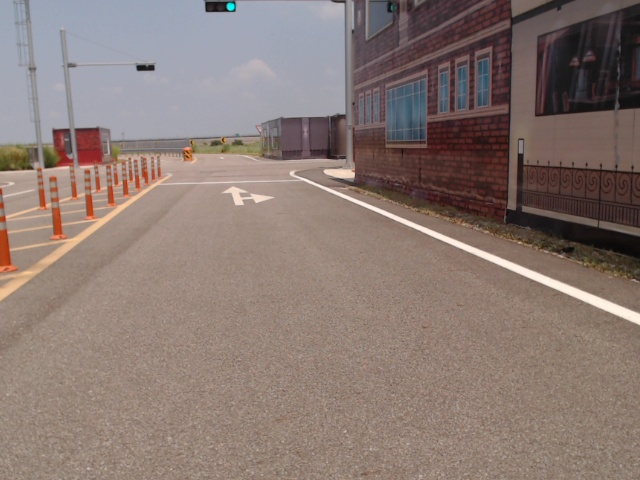green_3: (205, 0, 237, 13)
